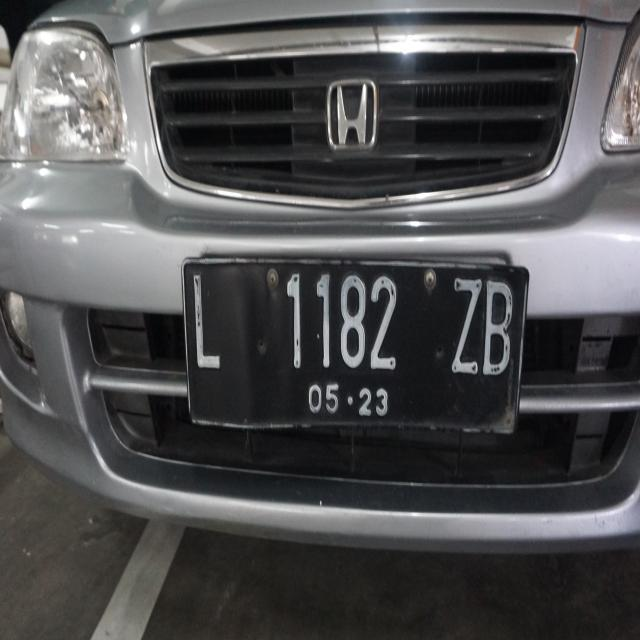1: (306, 262, 339, 373), (277, 267, 309, 370)
2: (365, 270, 402, 379)
8: (338, 267, 366, 371)
B: (473, 270, 512, 388)
L: (186, 270, 226, 385)
Z: (445, 270, 482, 379)
